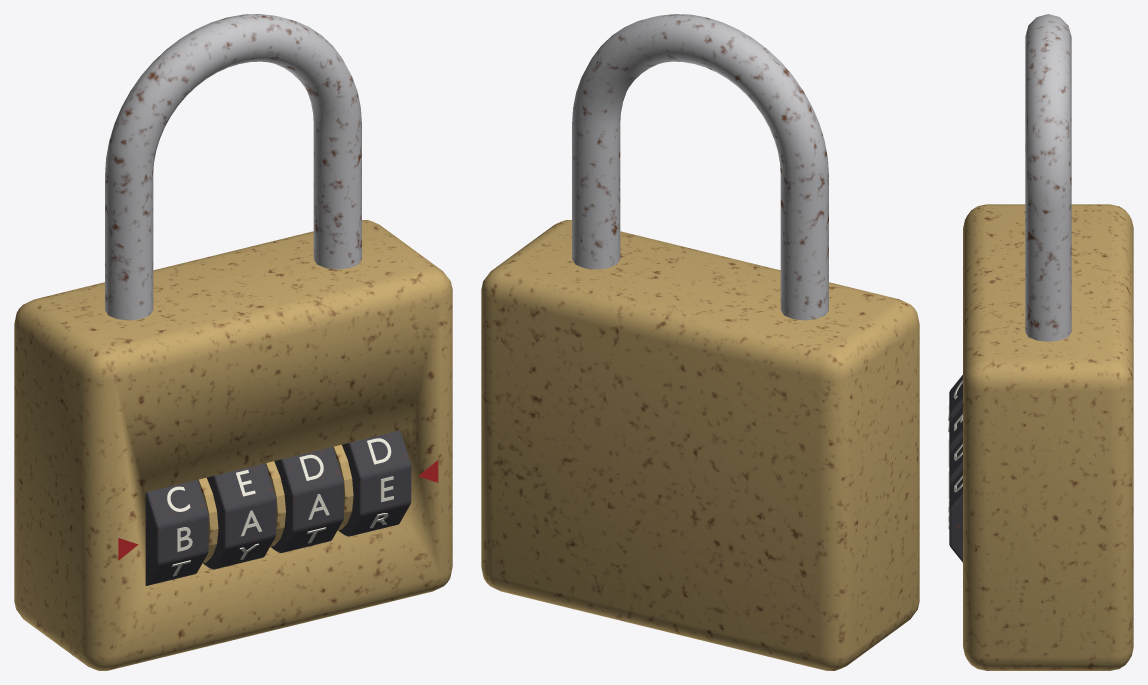
File: DialLock_Letter.fbx
3 views of the same model, side by side, from view 1: azimuth 30°, elevation 25°; view 2: azimuth 150°, elevation 25°; view 3: azimuth 270°, elevation 25° (orthographic). The views are drawn at different scales.
Visible parts, largest first — view 1: DialLock_Letter_Body, DialLock_Letter_Shackle, DialLock_Letter; view 2: DialLock_Letter_Body, DialLock_Letter_Shackle; view 3: DialLock_Letter_Body, DialLock_Letter_Shackle, DialLock_Letter.
Boxes of the visible parts, left/top/right/bottom form: DialLock_Letter_Body: left=14, top=220, right=452, bottom=670; DialLock_Letter_Shackle: left=105, top=14, right=361, bottom=320; DialLock_Letter: left=145, top=430, right=411, bottom=585; DialLock_Letter_Body: left=481, top=220, right=919, bottom=670; DialLock_Letter_Shackle: left=572, top=14, right=828, bottom=320; DialLock_Letter_Body: left=963, top=204, right=1133, bottom=670; DialLock_Letter_Shackle: left=1025, top=14, right=1071, bottom=341; DialLock_Letter: left=948, top=375, right=962, bottom=562.
Size of the model in its own units: 0.06 by 0.0914 by 0.0272.
1 material, 1 textured.
